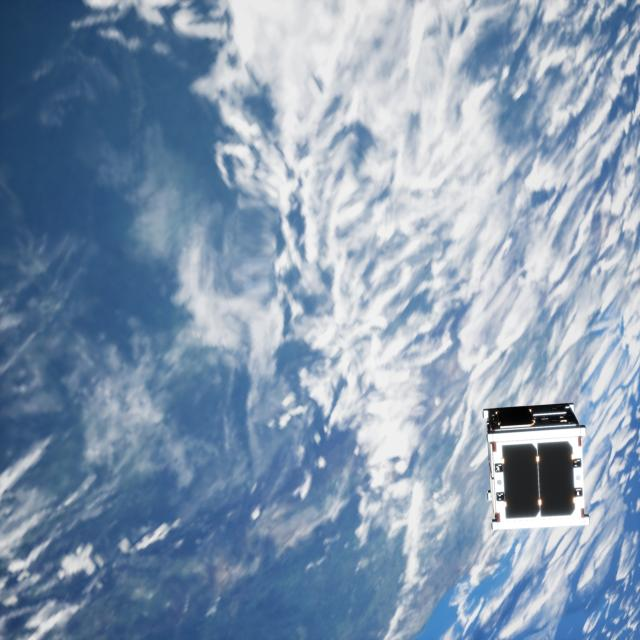medium_debris: (480, 398, 595, 525)
